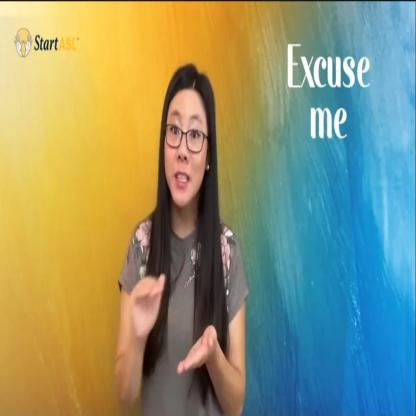ExcuseMe: (124, 258, 217, 386)
